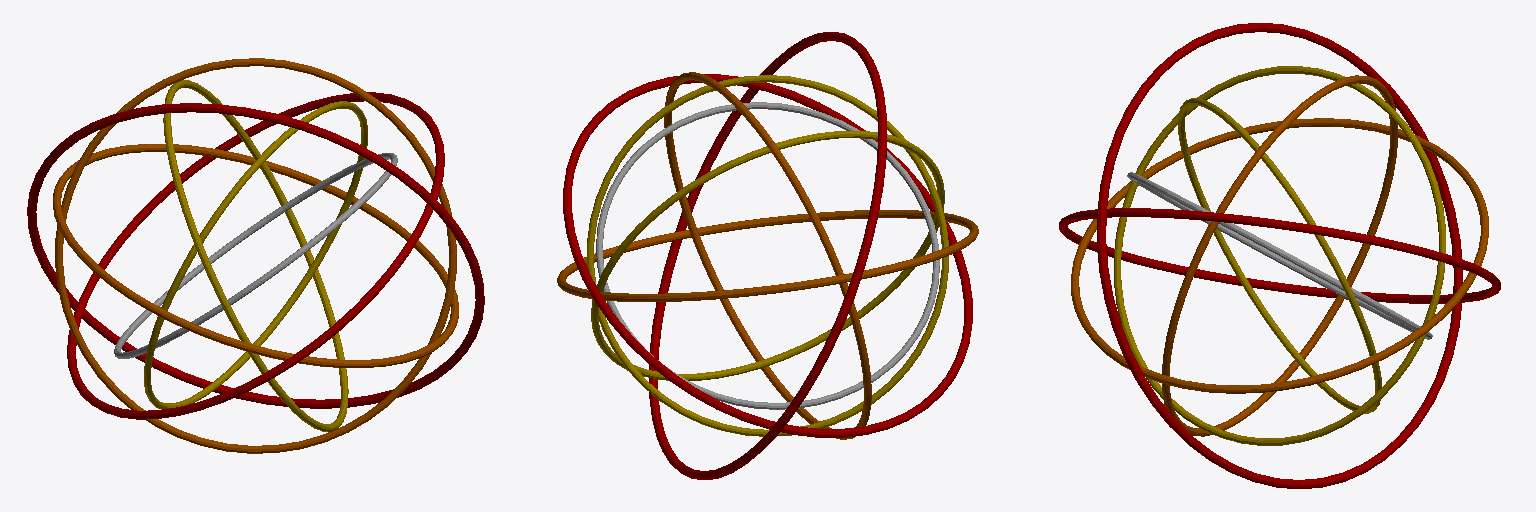
Rendered from orbits.obj.
The picture shows the model from 3 angles: view 1: azimuth 30°, elevation 25°; view 2: azimuth 150°, elevation 25°; view 3: azimuth 270°, elevation 25°; orthographic projection.
Parts seen in each view (by area): view 1: pTorus1, pTorus4, pTorus2, pTorus3, pTorus5, pTorus6, pTorus7; view 2: pTorus1, pTorus2, pTorus6, pTorus3, pTorus4, pTorus5, pTorus7; view 3: pTorus1, pTorus3, pTorus5, pTorus2, pTorus4, pTorus6, pTorus7.
Part boxes in pixels (x1,y1,x2,y2): pTorus1: (27, 103, 484, 408); pTorus4: (55, 58, 456, 453); pTorus2: (67, 92, 444, 419); pTorus3: (53, 144, 458, 367); pTorus5: (163, 80, 348, 431); pTorus6: (144, 101, 367, 409); pTorus7: (114, 153, 397, 358); pTorus1: (649, 32, 886, 479); pTorus2: (563, 74, 972, 437); pTorus6: (587, 75, 948, 436); pTorus3: (557, 210, 978, 301); pTorus4: (664, 72, 871, 439); pTorus5: (591, 131, 944, 380); pTorus7: (596, 102, 939, 409); pTorus1: (1097, 23, 1462, 488); pTorus3: (1071, 118, 1488, 393); pTorus5: (1114, 66, 1445, 445); pTorus2: (1059, 208, 1500, 303); pTorus4: (1162, 75, 1397, 436); pTorus6: (1178, 98, 1381, 413); pTorus7: (1127, 172, 1432, 339).
Size of the model in its own units: 8.64 by 8.85 by 9.26.